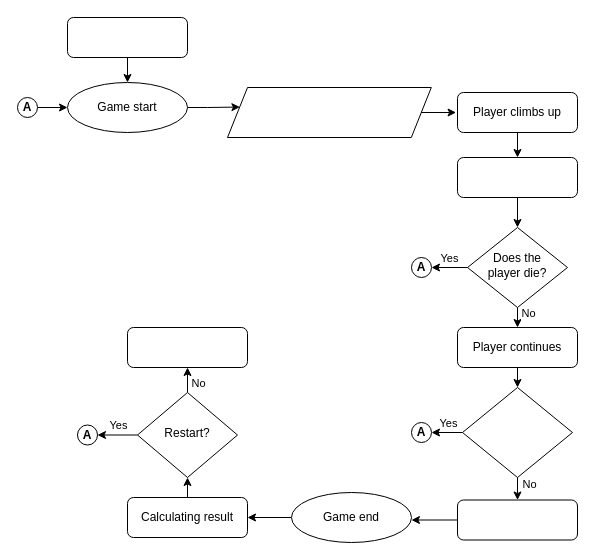
Image size: 595x560. Some labels were removed from this diagram. The shapes that lost their labels are listed below. From the top down, each one's centre as x and y in pixels, then its label:
the point at 127,37: Start game from main menu
the point at 328,112: Player, map, traps and enemies spawn
the point at 517,177: Player encounters enemy or trap
the point at 187,347: Back to main menu
the point at 517,432: Does the player run out of time?
the point at 517,519: Player reaches end
